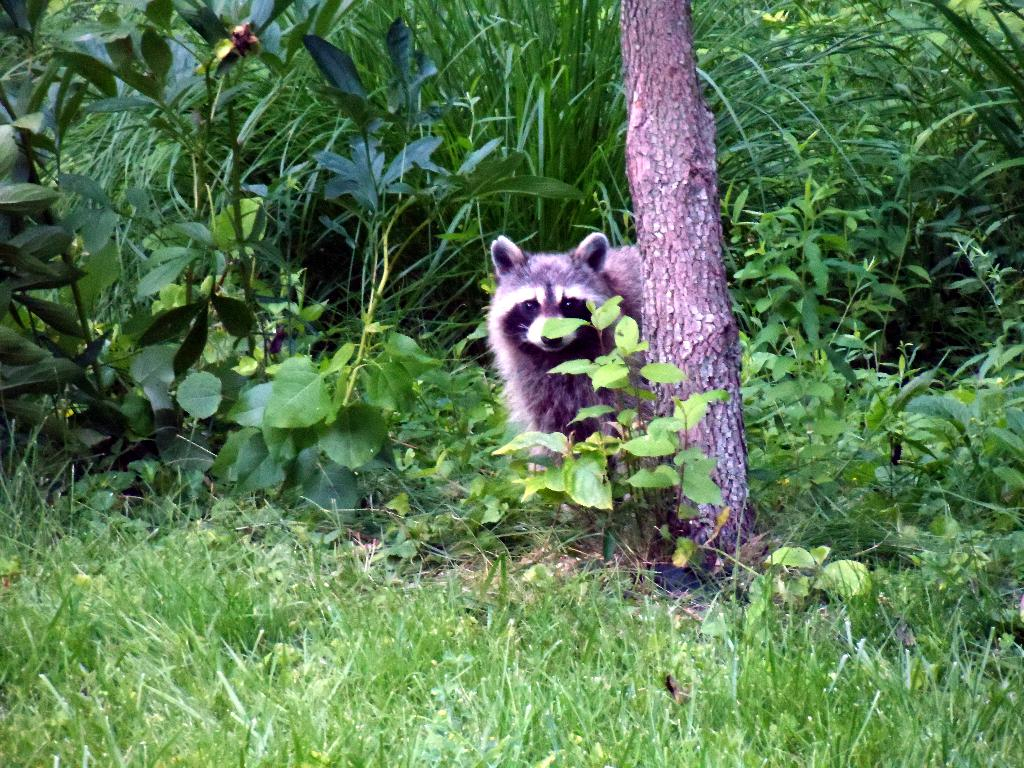raccoon: (482, 229, 652, 441)
